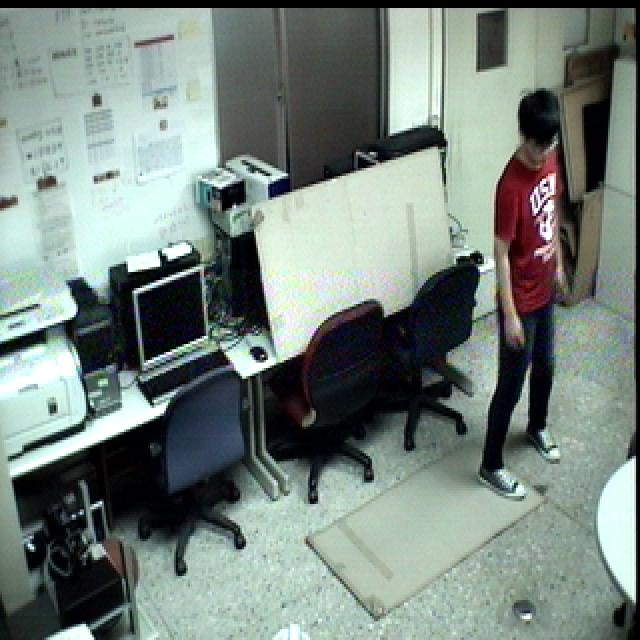stand: (484, 68, 579, 506)
